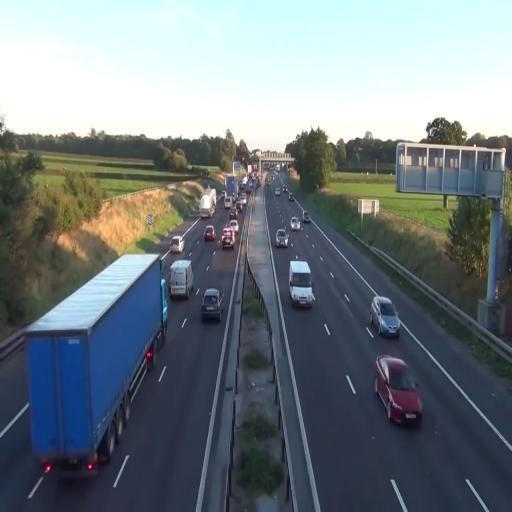vehicle: (26, 251, 166, 475), (374, 355, 424, 427), (288, 258, 316, 308), (368, 296, 400, 338), (170, 257, 193, 301), (169, 259, 193, 301), (202, 288, 222, 323), (199, 190, 216, 220), (220, 224, 238, 250), (274, 225, 290, 249), (204, 225, 216, 244), (290, 216, 300, 230)
